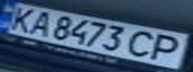3: (103, 22, 130, 54)
4: (66, 17, 90, 46)
7: (84, 19, 109, 51)
8: (45, 13, 75, 42)
A: (21, 9, 57, 37)
C: (124, 28, 163, 60)
K: (0, 3, 42, 33)
P: (142, 32, 190, 63)
